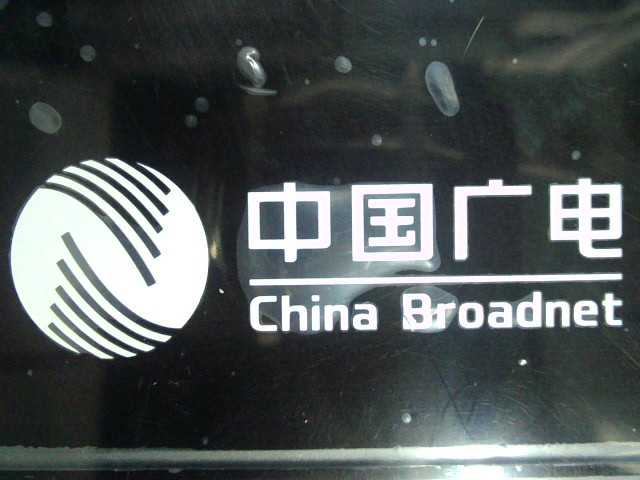AW_ChinaBroadNet: (2, 127, 634, 360)
